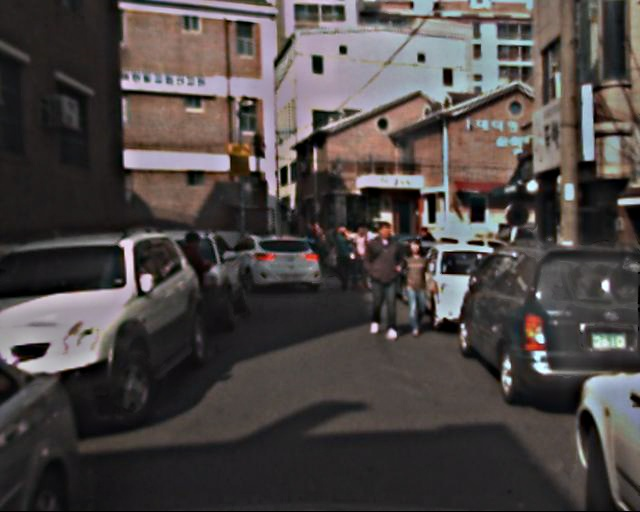person: (360, 220, 409, 340), (173, 231, 216, 335), (397, 243, 435, 335), (331, 226, 358, 293), (349, 225, 376, 291), (308, 221, 337, 257)
